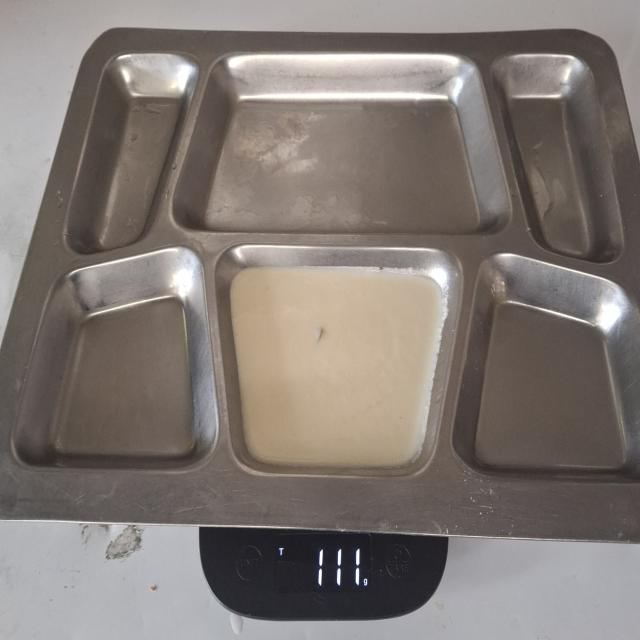Chutney: (225, 257, 449, 475)
